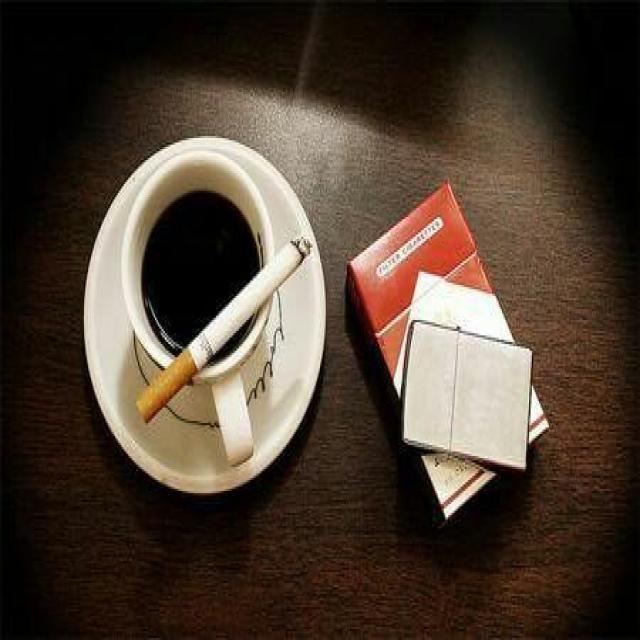rokok: (135, 248, 337, 416)
